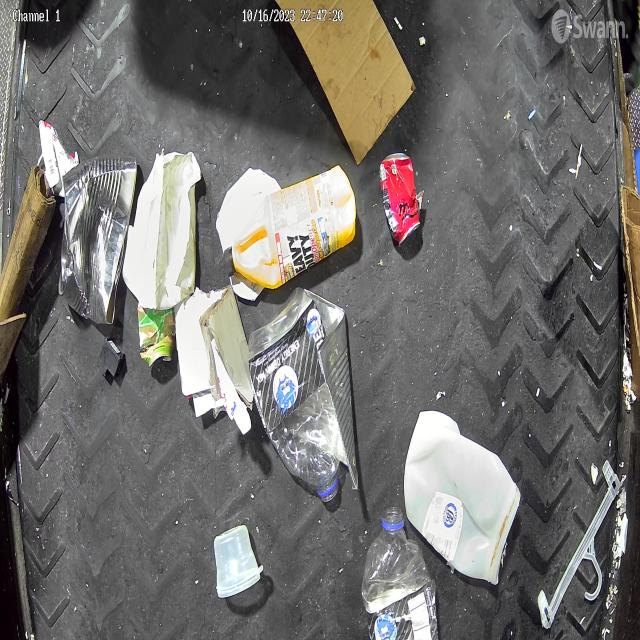can: (58, 156, 139, 323), (378, 152, 420, 246), (138, 305, 178, 366)
milk_jug: (404, 412, 522, 585)
non_white_jug: (224, 165, 356, 289)
plastic_bottle: (244, 284, 340, 498), (361, 506, 433, 638)
